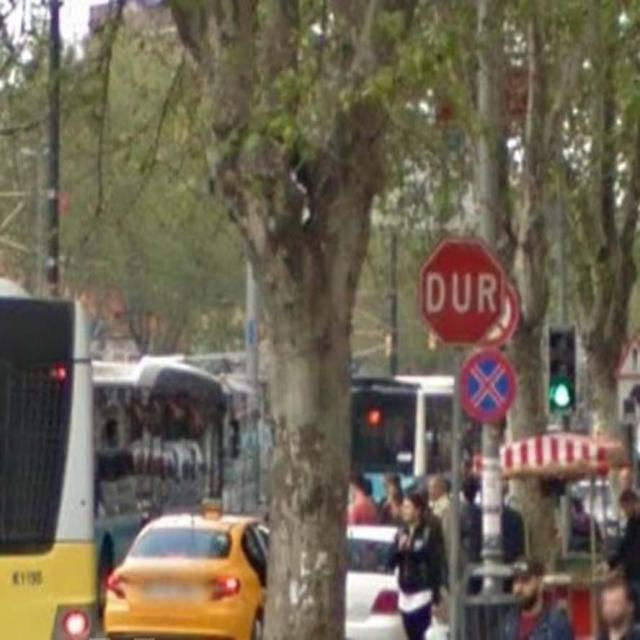dur: (416, 240, 503, 346)
